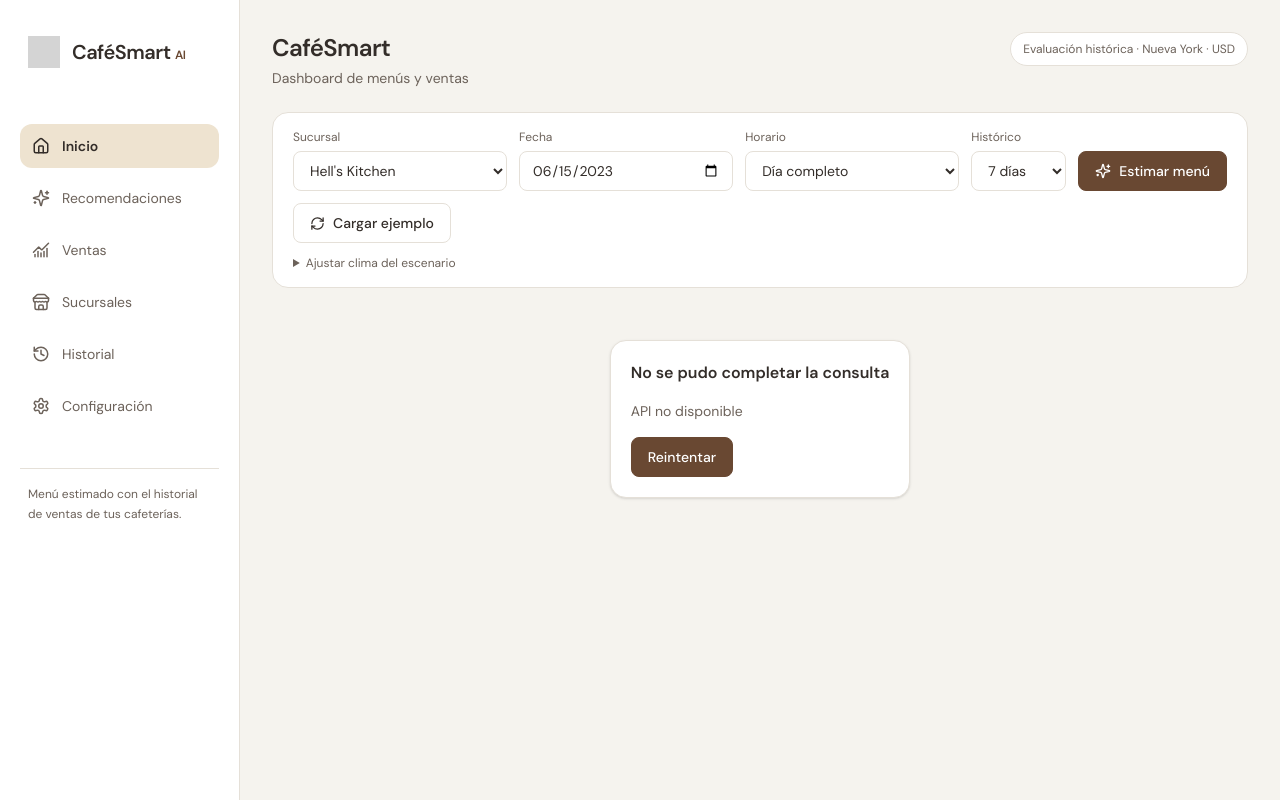
Test case: Dashboard conectado al contrato del motor › permite reintentar un error real de la API y asociar un reporte a la consulta
Expected: the message "API no disponible" is shown, [631, 402, 743, 420]
Click the button "Reintentar". click: coordinates (682, 457)
box: [631, 437, 733, 477]
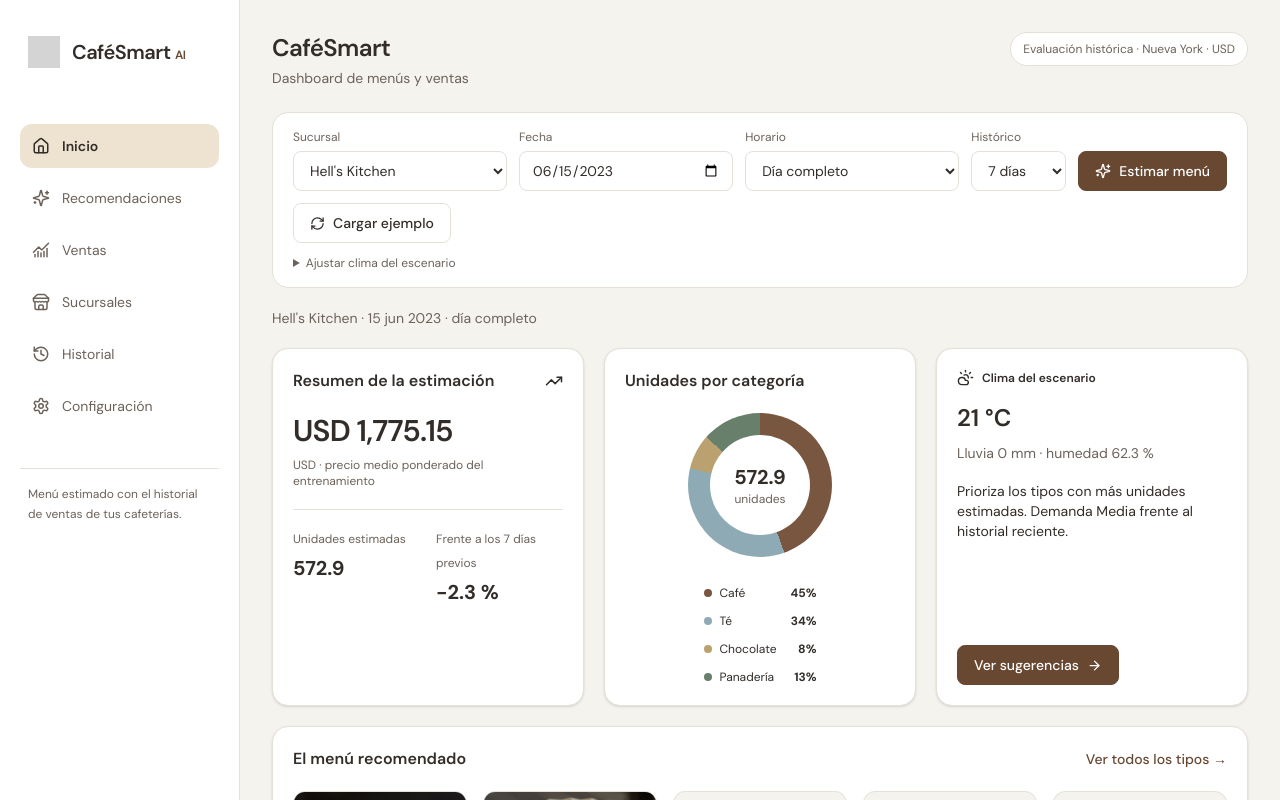
Click the button "Configuración". click: coordinates (120, 406)
box: [20, 384, 219, 428]
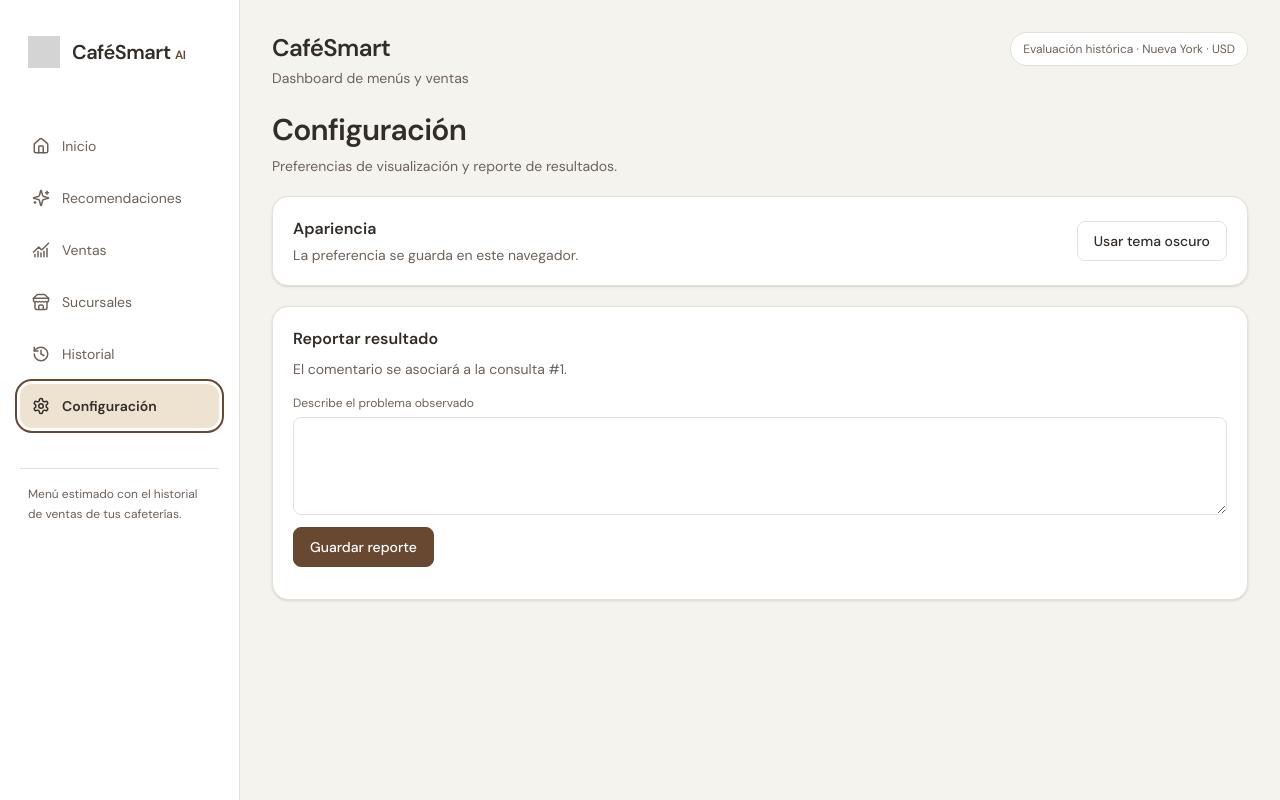
Type "Verificar el menú recomendado." into the text box labelled "Describe el problema observado". click: coordinates (760, 466)
box: [293, 417, 1227, 515]
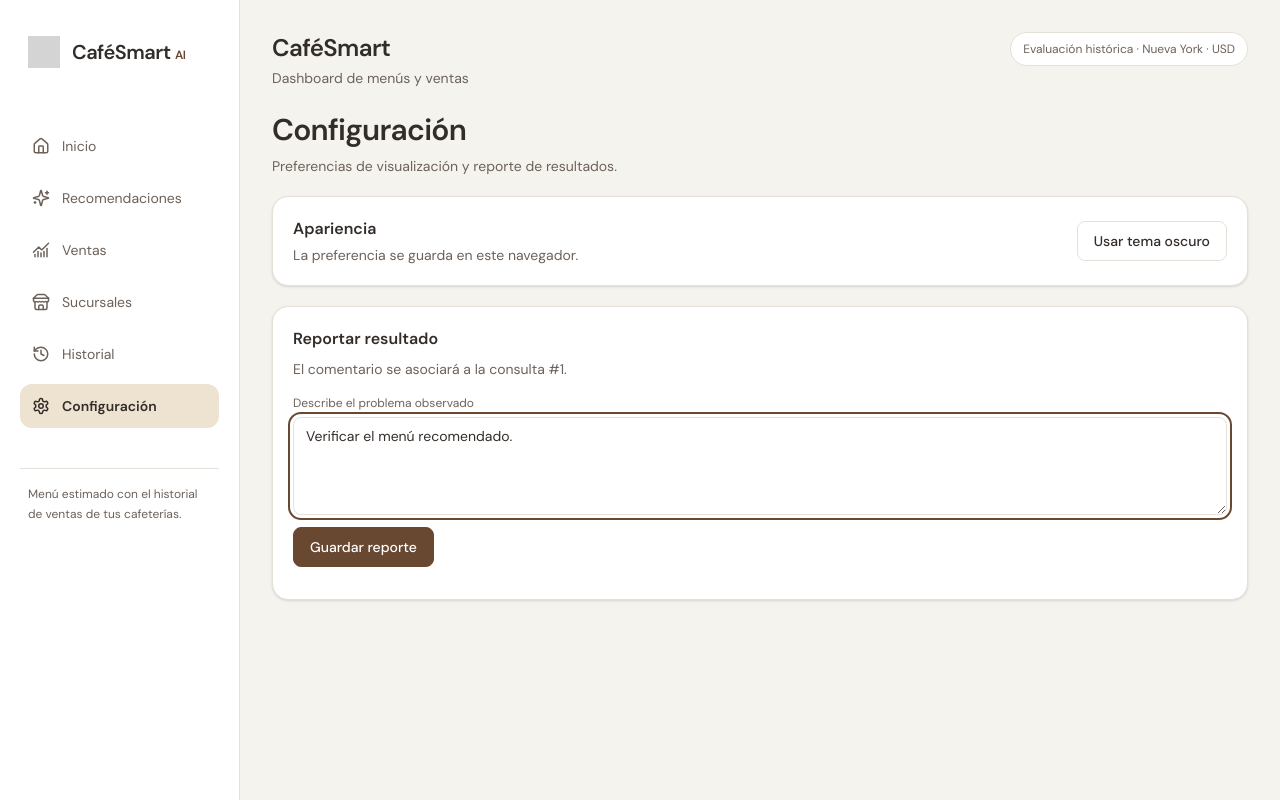
Click the button "Guardar reporte". click: coordinates (363, 547)
box: [293, 527, 434, 567]
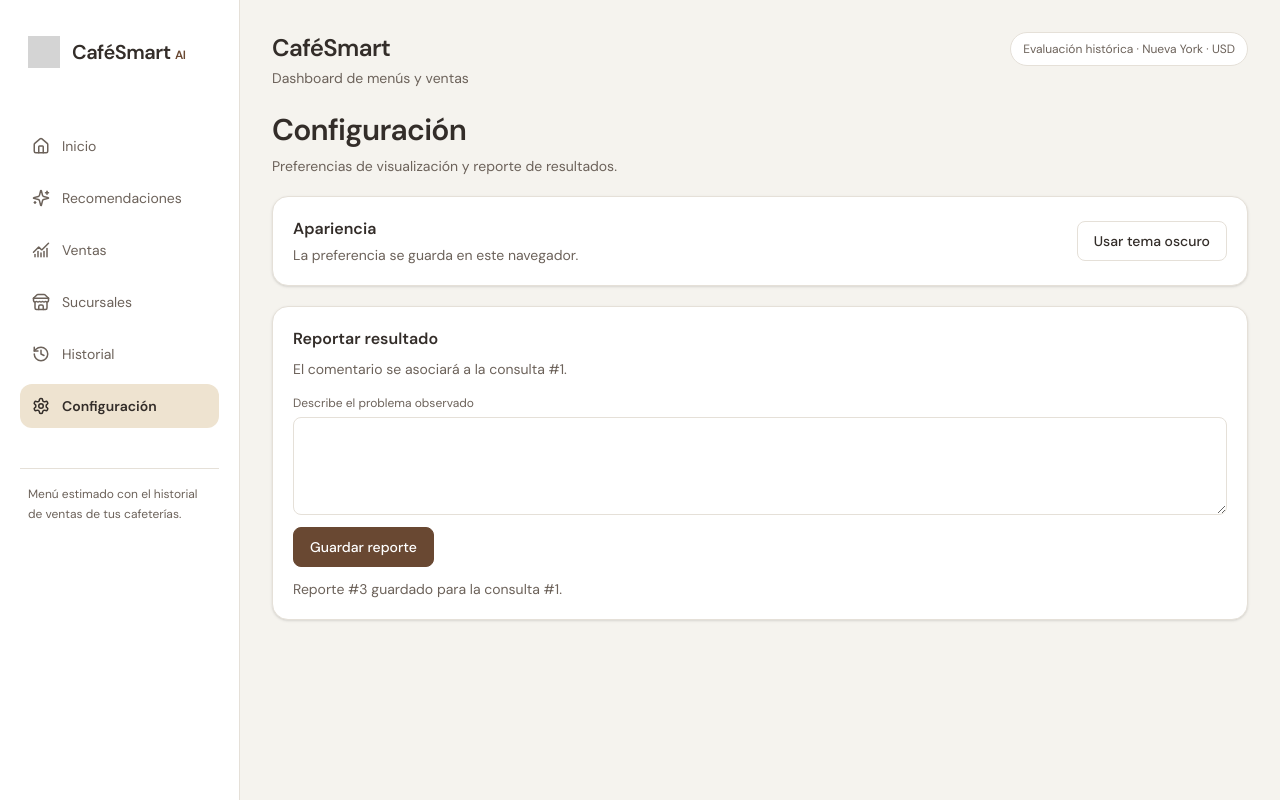
Now the text "Reporte #3 guardado para la consulta #1." is shown, box [293, 580, 562, 598]
